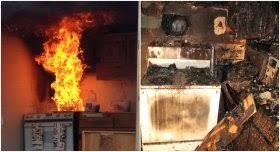fire: (36, 10, 91, 109)
